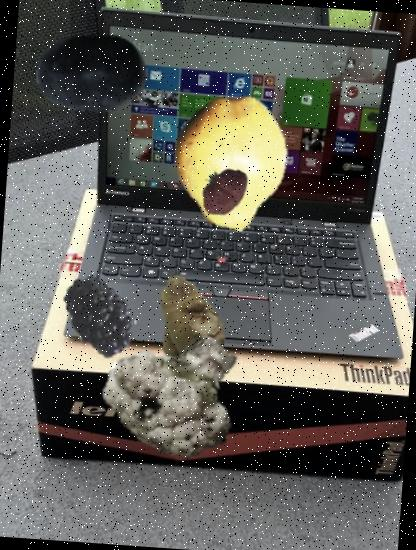Blueberry: (32, 15, 152, 134)
Cauliflower: (106, 317, 254, 466)
Ginger: (134, 272, 234, 372)
Mulberry: (58, 262, 162, 366)
Quince: (158, 90, 304, 237)
Strawberry: (194, 163, 251, 220)
